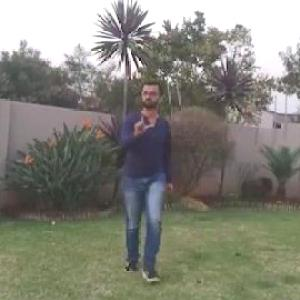land_hand: (126, 104, 158, 144)
